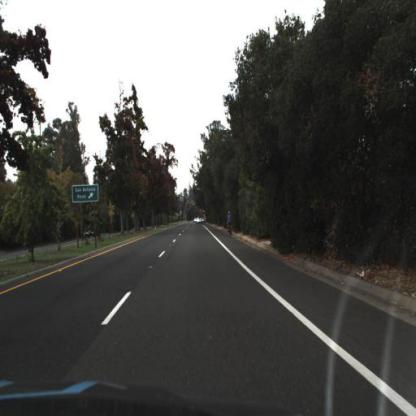biker: (226, 209, 234, 241)
